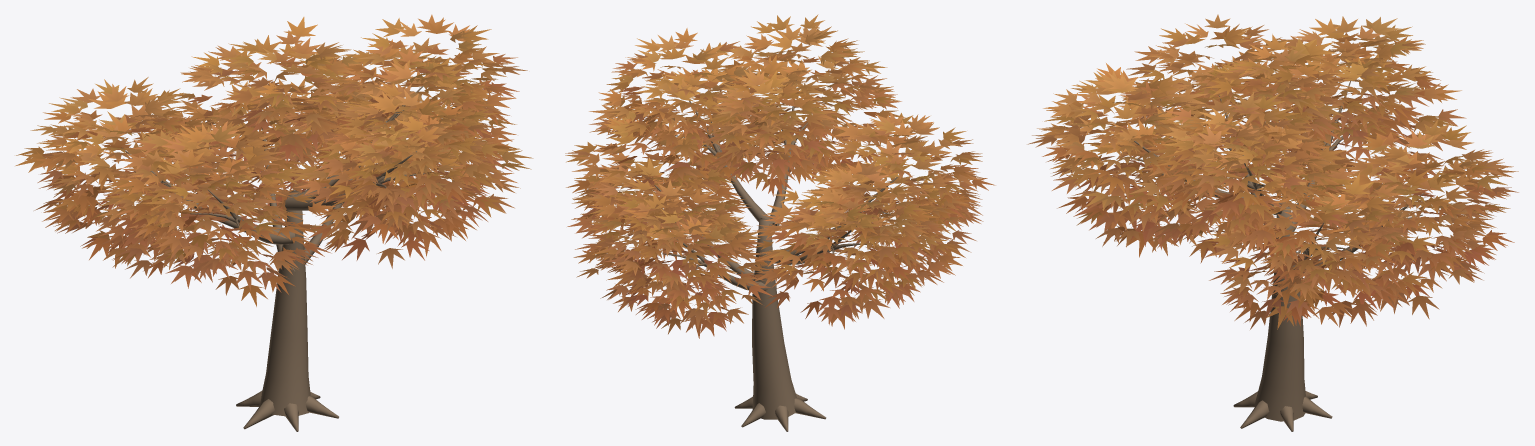
File: maple.glb
3 views of the same model, side by side, from view 1: azimuth 30°, elevation 25°; view 2: azimuth 150°, elevation 25°; view 3: azimuth 270°, elevation 25° (orthographic). The views are drawn at different scales.
Parts seen in each view (by area): view 1: leaf, bark; view 2: leaf, bark; view 3: leaf, bark.
Part boxes in pixels (x1=…): leaf: x1=15, y1=14, x2=533, y2=306; bark: x1=122, y1=86, x2=424, y2=431; leaf: x1=565, y1=14, x2=995, y2=338; bark: x1=648, y1=80, x2=897, y2=431; leaf: x1=1027, y1=14, x2=1518, y2=329; bark: x1=1134, y1=80, x2=1424, y2=431.
Bounding box in the file's own units: 5.27 × 4.23 × 5.11.
